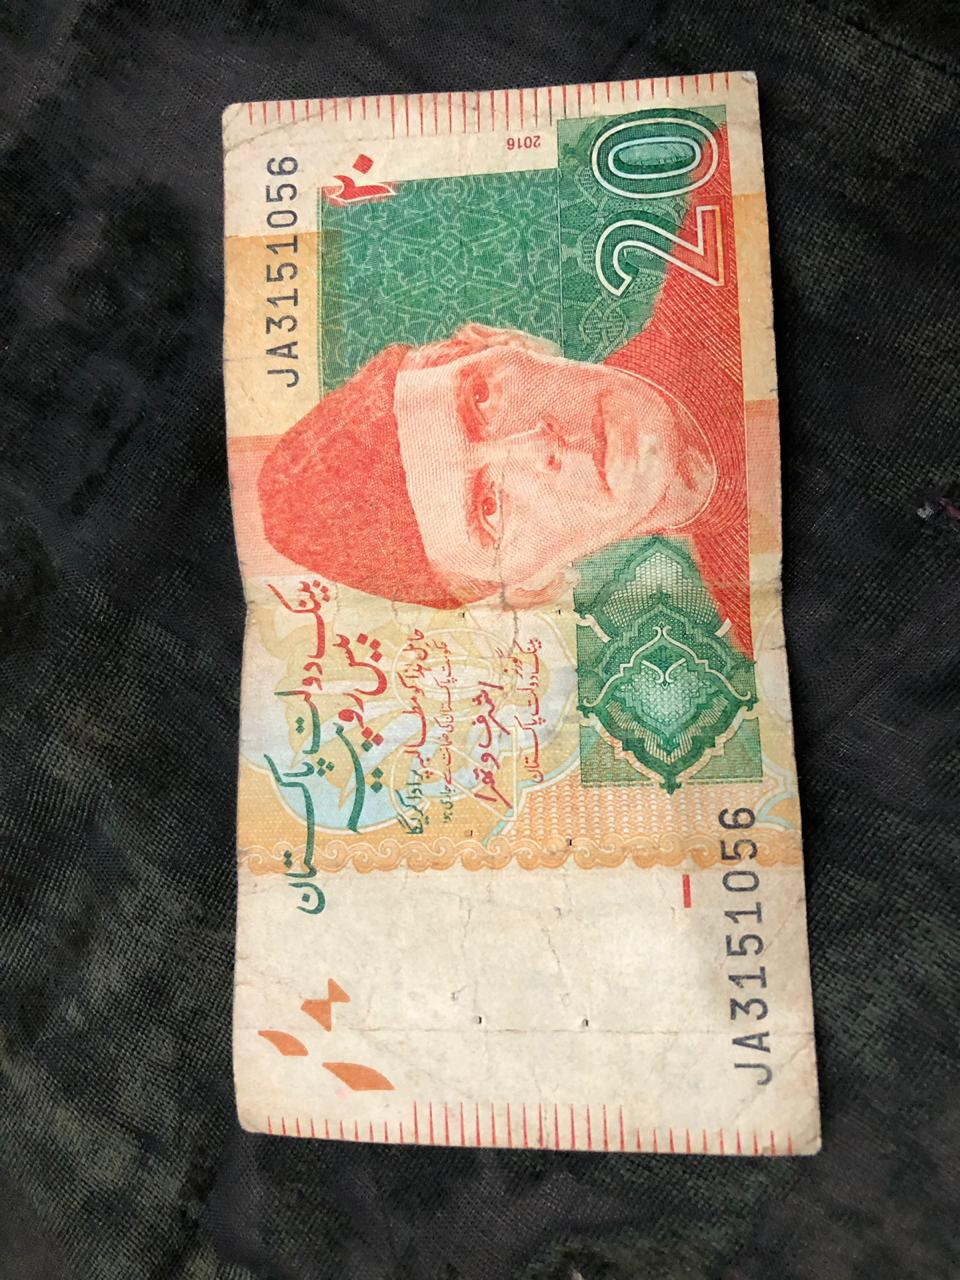20 rupee: (170, 65, 848, 1185)
